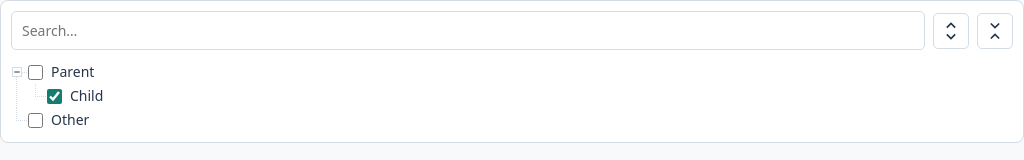
Test: preserves multi selections filtered out by search, including native form submission
The width and height of the screenshot is (1024, 160).
Type "OTHER" into the search field at (468, 30), box x1=11 y1=11 x2=925 y2=50
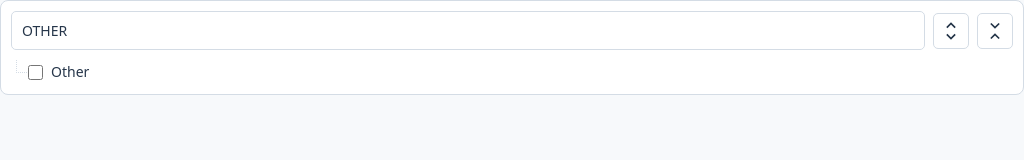
Expected: the text "Child" is gone
Click the checkbox labelled "Other" at (36, 72), box x1=28 y1=64 x2=43 y2=80
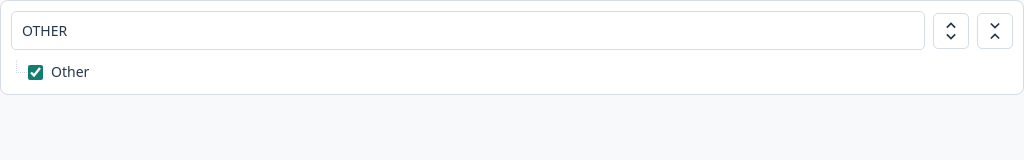
Clear the search field at (468, 30), box x1=11 y1=11 x2=925 y2=50
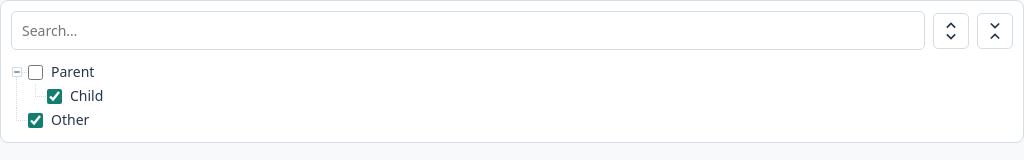
Expected: the checkbox labelled "Other" is checked, x1=28 y1=112 x2=43 y2=128
Expected: the checkbox labelled "Child" is checked, x1=47 y1=88 x2=62 y2=104
